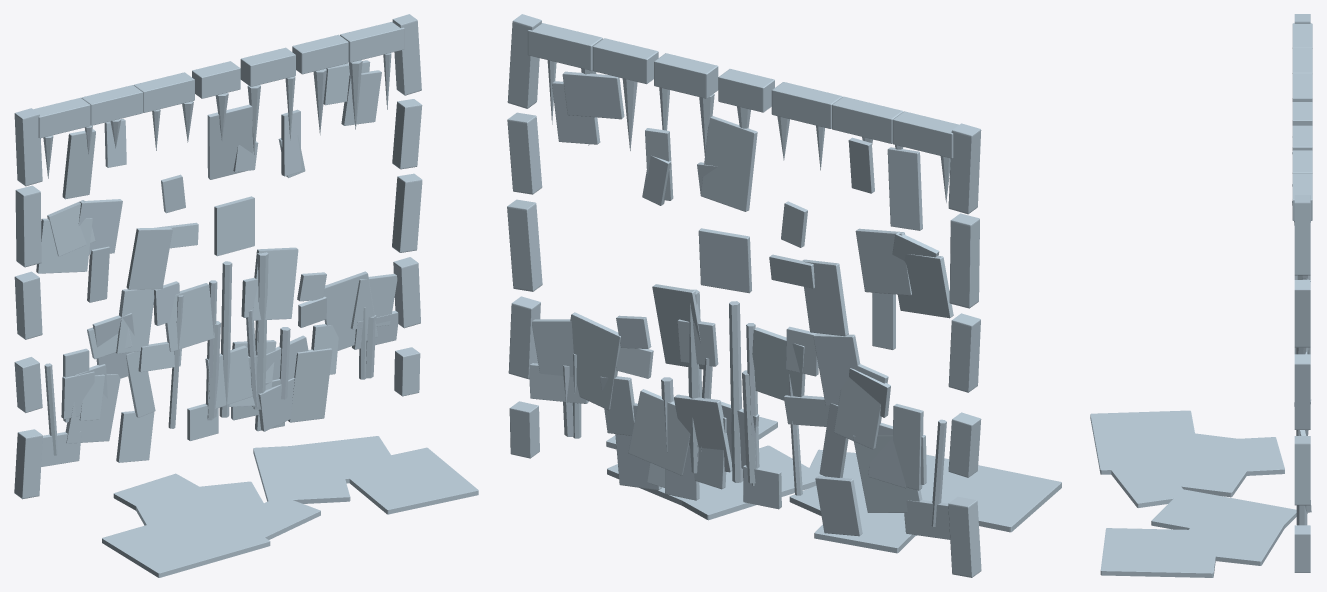
The model's file is Ch2_DoorIce.fbx.
The picture shows the model from 3 angles, left to right: view 1: azimuth 30°, elevation 25°; view 2: azimuth 150°, elevation 25°; view 3: azimuth 270°, elevation 25°; orthographic projection. The views are drawn at different scales.
Visible parts, largest first — view 1: Ice_Band_0, Ice_Band_1, Ice_Band_5, Ice_Band_4, Ice_Band_3, Ice_Band_2; view 2: Ice_Band_1, Ice_Band_5, Ice_Band_0, Ice_Band_4, Ice_Band_3, Ice_Band_2; view 3: Ice_Band_0, Ice_Band_5, Ice_Band_1, Ice_Band_3, Ice_Band_4.
Boxes of the visible parts, x1=… form: Ice_Band_0: x1=14, y1=347, x2=478, y2=577; Ice_Band_1: x1=14, y1=252, x2=420, y2=455; Ice_Band_5: x1=14, y1=14, x2=421, y2=186; Ice_Band_4: x1=15, y1=70, x2=422, y2=267; Ice_Band_3: x1=14, y1=173, x2=422, y2=339; Ice_Band_2: x1=87, y1=247, x2=326, y2=378; Ice_Band_1: x1=508, y1=289, x2=981, y2=526; Ice_Band_5: x1=507, y1=14, x2=981, y2=214; Ice_Band_0: x1=509, y1=394, x2=1061, y2=577; Ice_Band_4: x1=507, y1=81, x2=979, y2=308; Ice_Band_3: x1=507, y1=199, x2=980, y2=392; Ice_Band_2: x1=616, y1=284, x2=890, y2=449; Ice_Band_0: x1=1090, y1=347, x2=1310, y2=577; Ice_Band_5: x1=1292, y1=14, x2=1312, y2=275; Ice_Band_1: x1=1294, y1=275, x2=1311, y2=525; Ice_Band_3: x1=1294, y1=275, x2=1310, y2=429; Ice_Band_4: x1=1294, y1=221, x2=1310, y2=347.
Bounding box in the file's own units: 2.54 × 2.39 × 1.23.
